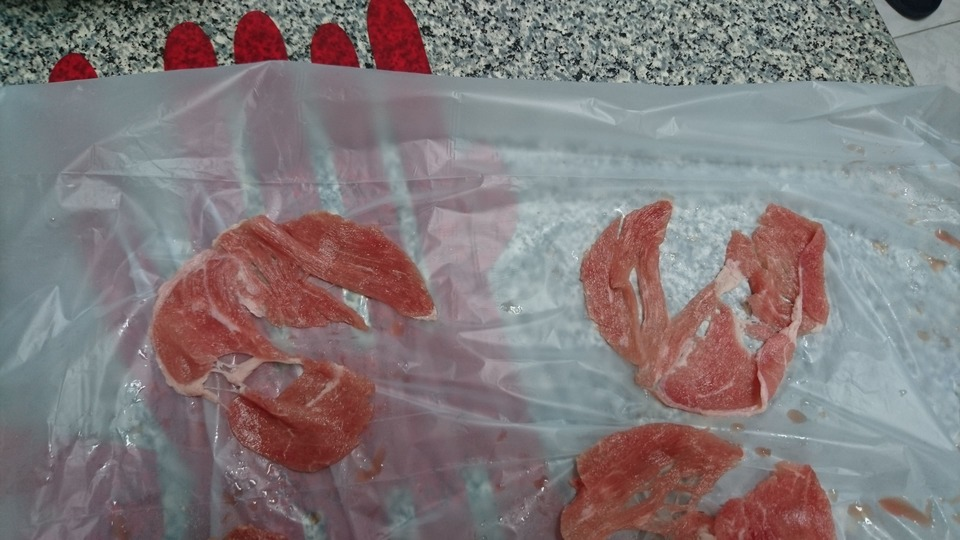restructured meat: (166, 232, 442, 476), (569, 198, 823, 422), (560, 436, 865, 540)
